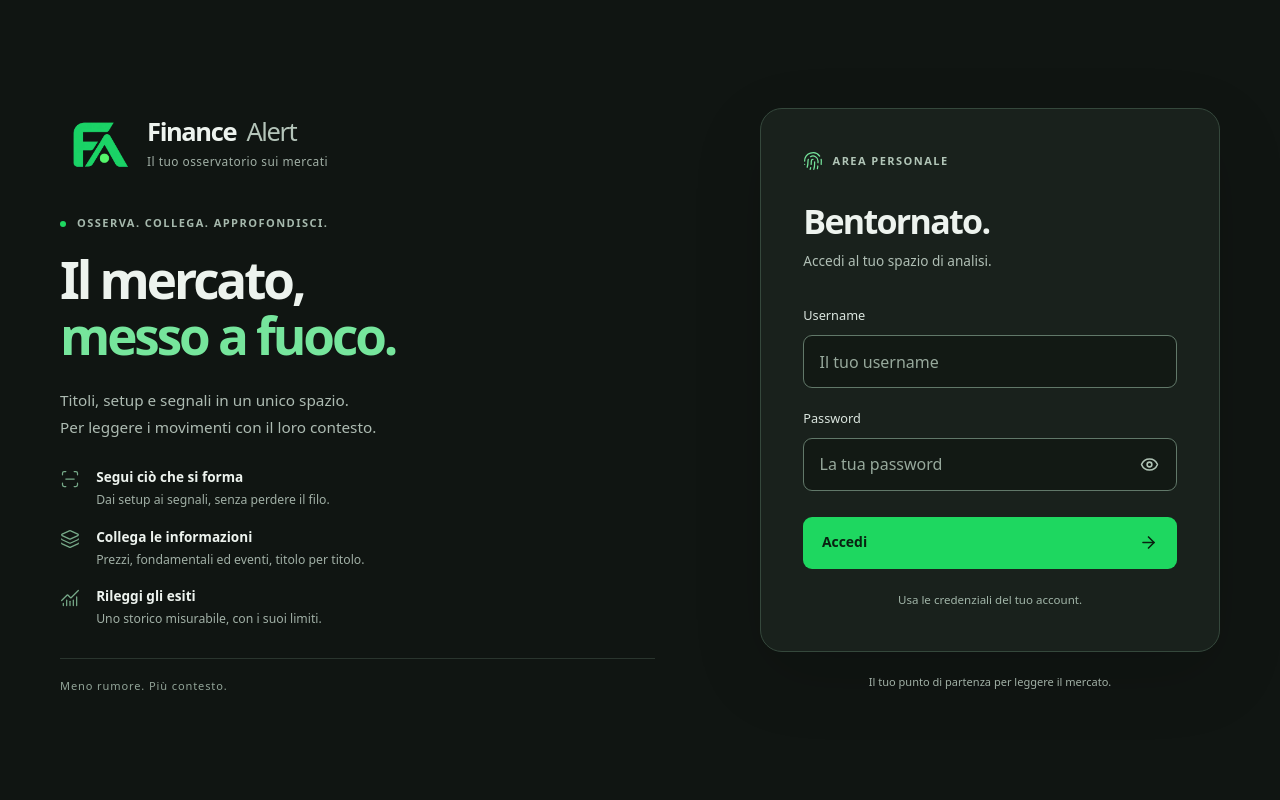
Scenario: login interactions › reveals and hides the password without submitting or changing its value
Type "local-test-password" into the password field labelled "Password" at {"x": 990, "y": 464}, box left=803, top=438, right=1177, bottom=491
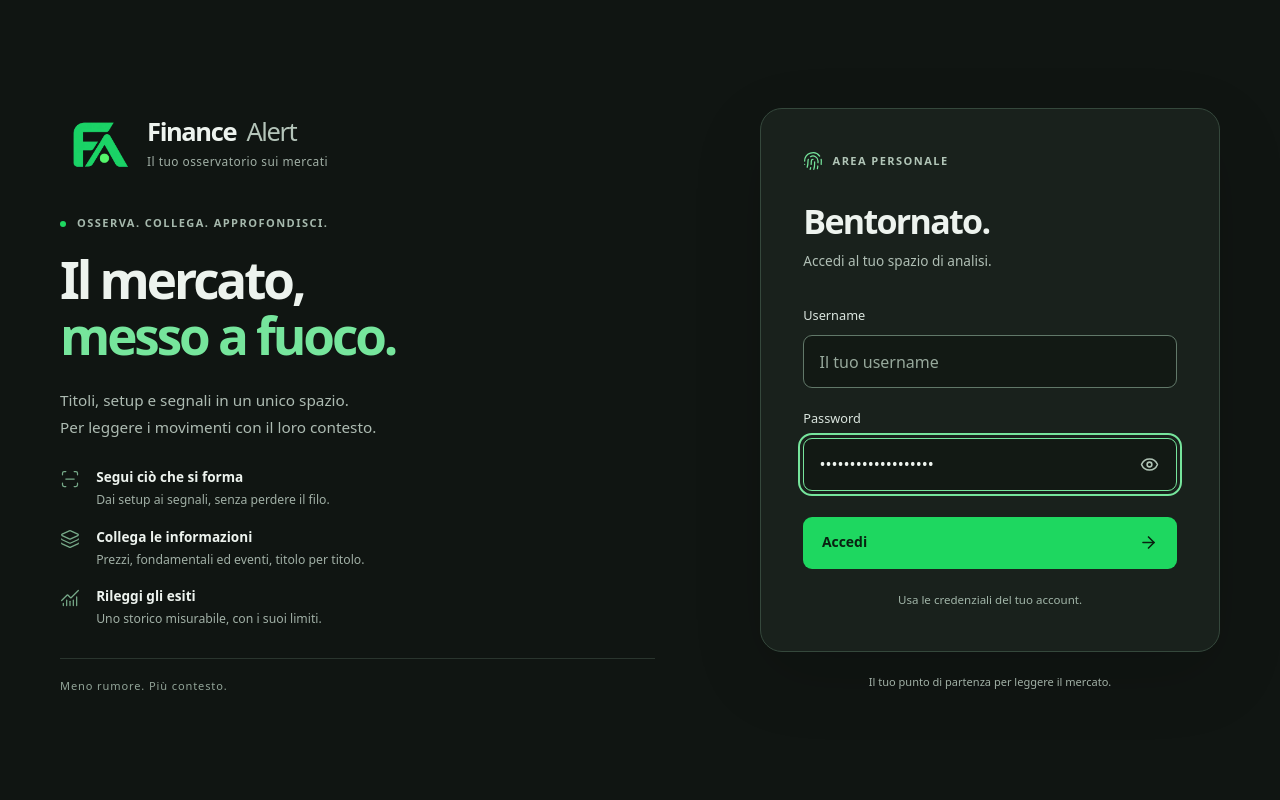
Click the button named "Mostra password" at {"x": 1150, "y": 464}, box left=1128, top=442, right=1172, bottom=486
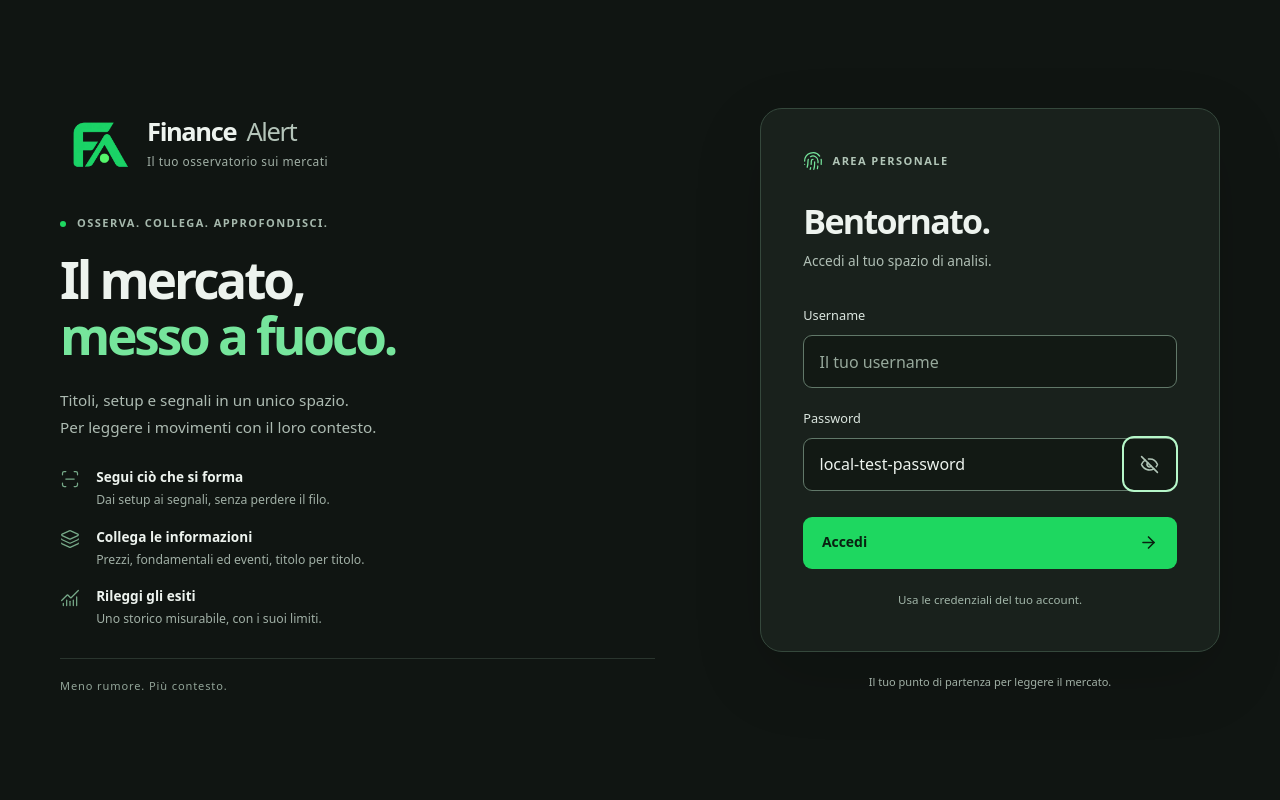
Check: the field labelled "Password" shows its text, box left=803, top=438, right=1177, bottom=491
Click the button named "Nascondi password" at {"x": 1150, "y": 464}, box left=1128, top=442, right=1172, bottom=486
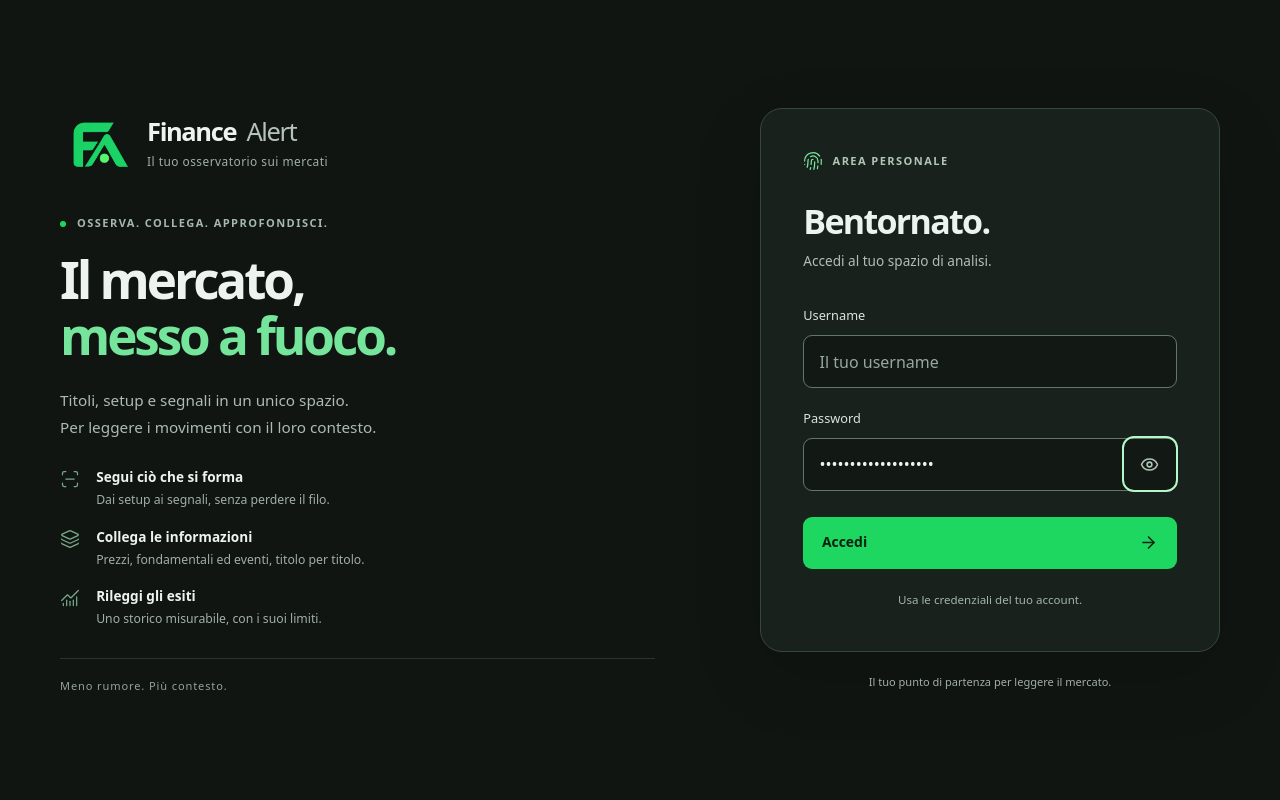
Check: the password field labelled "Password" hides its text, box left=803, top=438, right=1177, bottom=491
